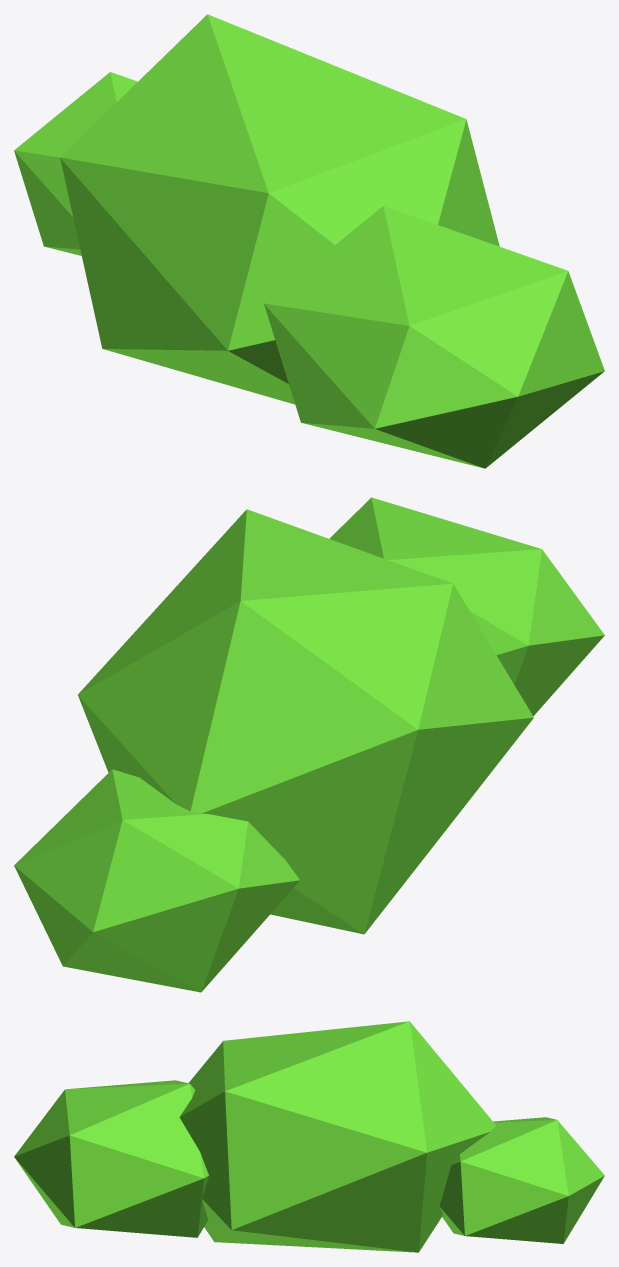
Rendered from Arbusto_Tipo_Simples.fbx.
3 renders of one model, top to bottom at view 1: azimuth 30°, elevation 25°; view 2: azimuth 150°, elevation 25°; view 3: azimuth 270°, elevation 25°, orthographic. The views are drawn at different scales.
Parts seen in each view (by area): view 1: Icosphere.001; view 2: Icosphere.001; view 3: Icosphere.001.
Part boxes in pixels (left/top/right/bottom): Icosphere.001: left=14, top=14, right=604, bottom=468; Icosphere.001: left=14, top=497, right=604, bottom=992; Icosphere.001: left=14, top=1021, right=604, bottom=1252.
Size of the model in its own units: 509 by 453 by 1121.
